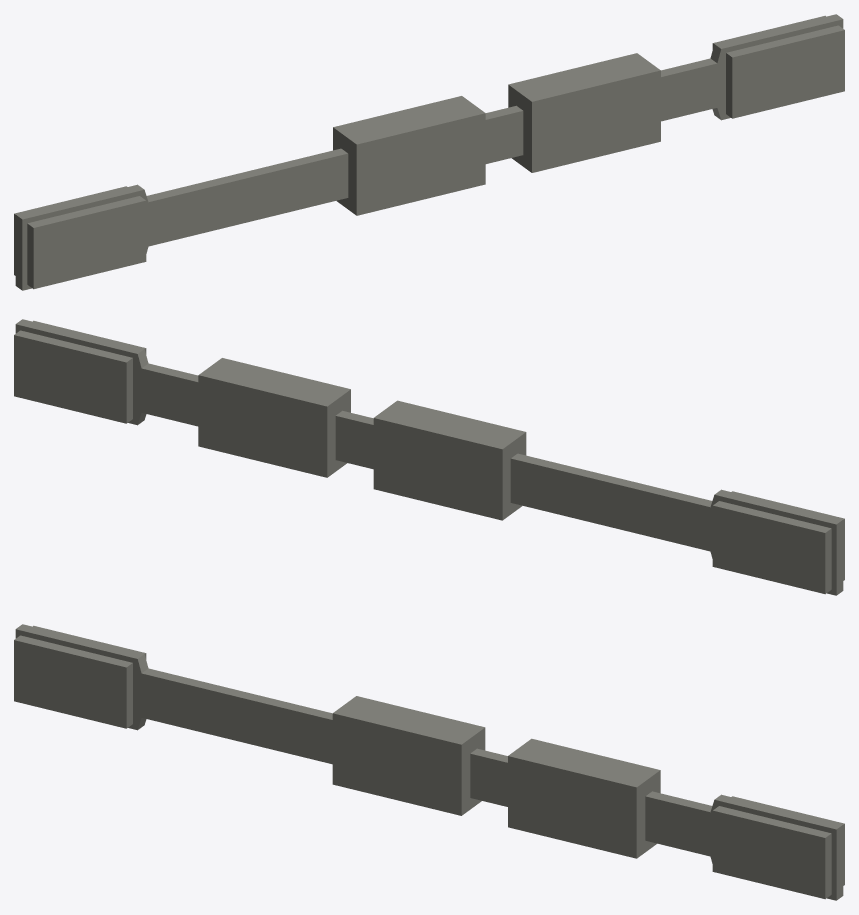
File: metal_rod_spec_01.fbx
3 views of the same model, one above another, from view 1: azimuth 30°, elevation 25°; view 2: azimuth 150°, elevation 25°; view 3: azimuth 330°, elevation 25° (orthographic).
Visible parts, largest first — view 1: metal_rod_spec_01; view 2: metal_rod_spec_01; view 3: metal_rod_spec_01.
Boxes of the visible parts, x1,y1,x2,y2 form: metal_rod_spec_01: (14, 14, 844, 290); metal_rod_spec_01: (14, 319, 844, 595); metal_rod_spec_01: (14, 624, 844, 900).
Bounding box in the file's own units: 269 × 22.87 × 13.48.
